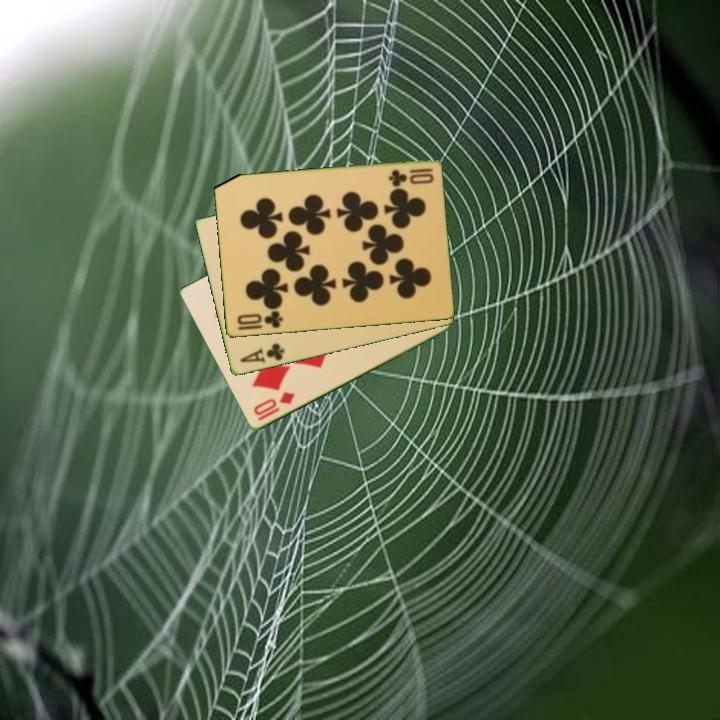10c: (233, 307, 285, 331), (385, 165, 435, 188)
10d: (250, 388, 298, 424)
Ac: (236, 340, 287, 366)
